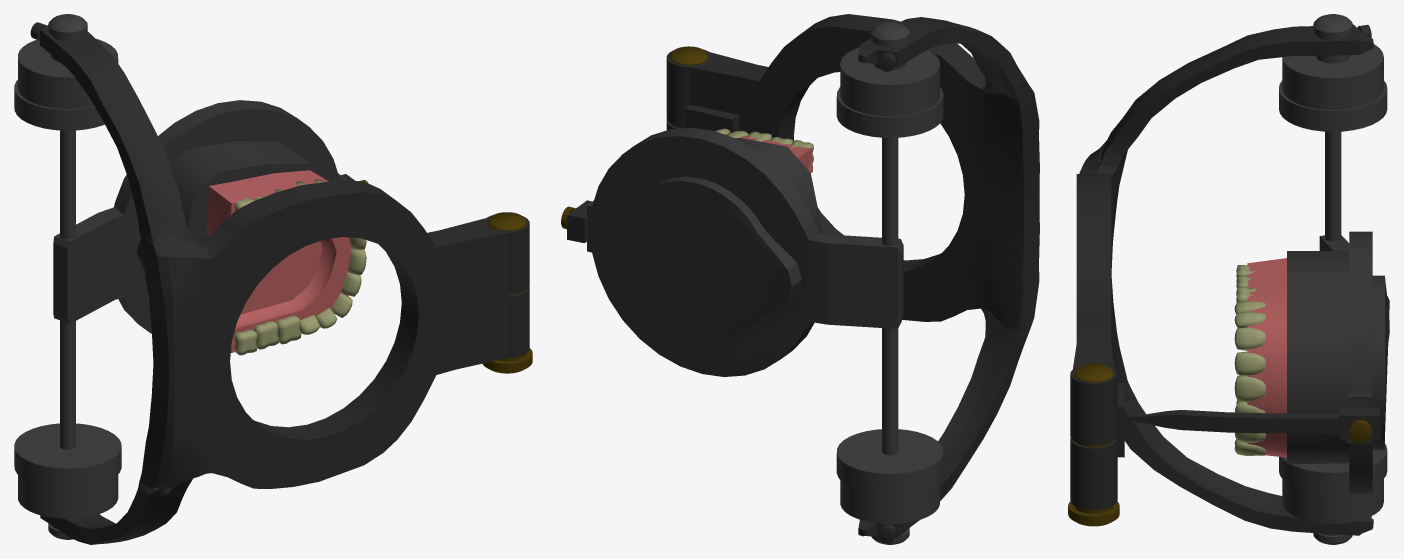
The model's file is ColorTest.FBX.
3 renders of one model, left to right at view 1: azimuth 30°, elevation 25°; view 2: azimuth 150°, elevation 25°; view 3: azimuth 270°, elevation 25°, orthographic.
Parts seen in each view (by area): view 1: base, top, axis, jaw, teeth, front_screw; view 2: top, base, axis, seperator, teeth, front_screw; view 3: base, top, axis, jaw, seperator, teeth, front_screw, seperator_screw.
Part boxes in pixels (x1,y1,x2,y2): base: (30,22,529,544); top: (53,100,346,333); axis: (14,14,121,539); jaw: (206,170,351,352); teeth: (234,179,366,355); front_screw: (482,212,532,373); top: (587,127,903,376); base: (666,14,1039,542); axis: (836,22,943,544); seperator: (567,200,591,243); teeth: (715,128,813,162); front_screw: (669,46,708,128); base: (1070,24,1373,535); top: (1287,231,1389,494); axis: (1279,14,1387,544); jaw: (1247,258,1286,457); seperator: (1125,407,1380,440); teeth: (1234,265,1265,455); front_screw: (1068,363,1119,526); seperator_screw: (1349,420,1371,443).
Size of the model in its own units: 1510 by 1915 by 1070.
